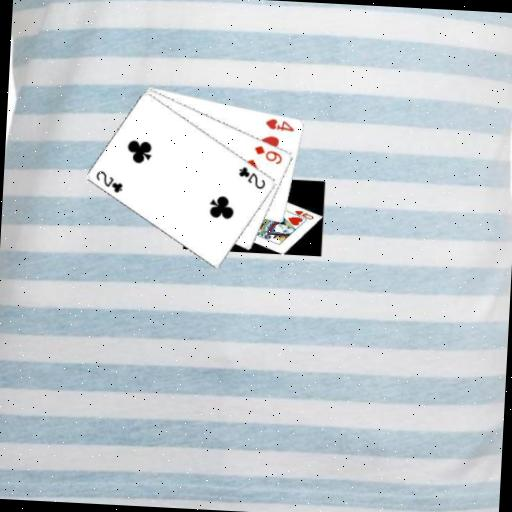2C: (235, 163, 268, 191), (92, 167, 125, 195)
4H: (263, 115, 296, 133)
6D: (251, 142, 285, 166)
